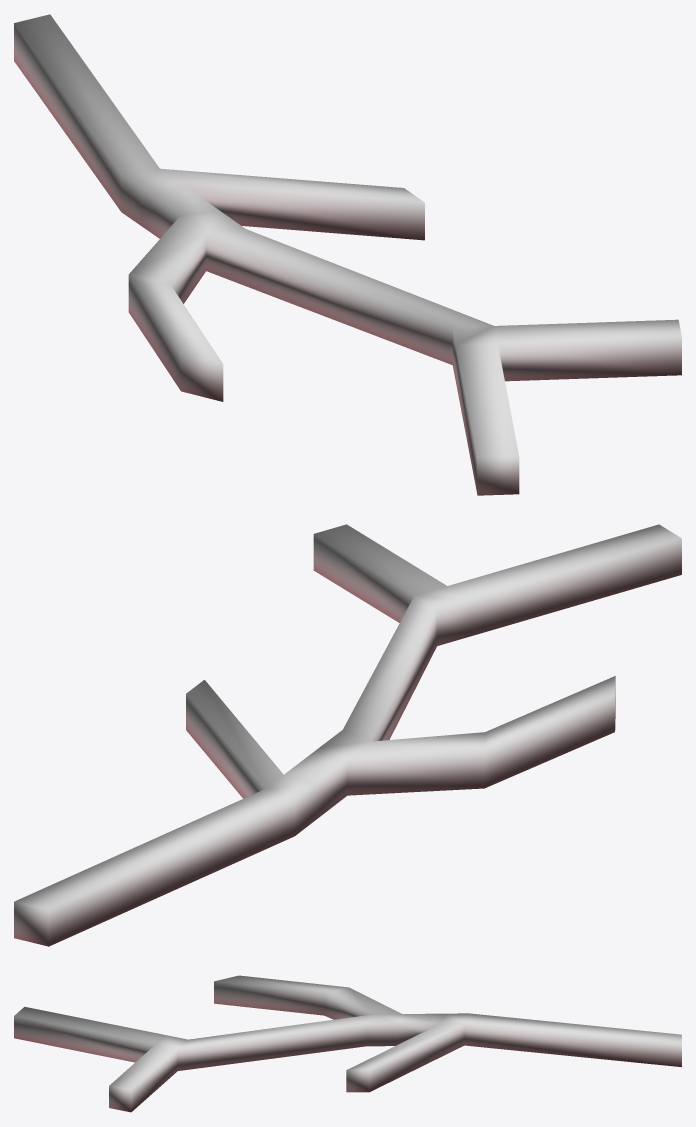
Rendered from Stick2.fbx.
3 views of the same model, one above another, from view 1: azimuth 30°, elevation 25°; view 2: azimuth 150°, elevation 25°; view 3: azimuth 270°, elevation 25° (orthographic). The views are drawn at different scales.
Parts seen in each view (by area): view 1: Stik2; view 2: Stik2; view 3: Stik2.
Part boxes in pixels (x1,y1,x2,y2): Stik2: (14,14,681,495); Stik2: (14,524,681,946); Stik2: (14,975,681,1112).
Bounding box in the file's own units: 137 × 12.92 × 334.
